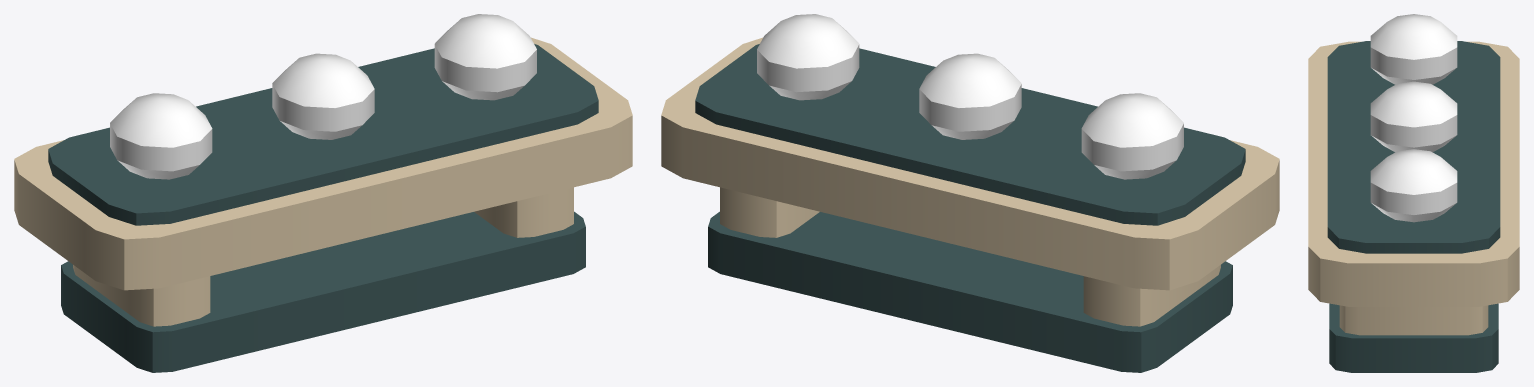
Rendered from goo-conveyor.glb.
3 views of the same model, side by side, from view 1: azimuth 30°, elevation 25°; view 2: azimuth 150°, elevation 25°; view 3: azimuth 270°, elevation 25° (orthographic). The views are drawn at different scales.
Parts seen in each view (by area): view 1: goo-conveyor; view 2: goo-conveyor; view 3: goo-conveyor.
Boxes of the visible parts, x1=… form: goo-conveyor: x1=14, y1=14, x2=632, y2=372; goo-conveyor: x1=661, y1=14, x2=1279, y2=372; goo-conveyor: x1=1308, y1=14, x2=1519, y2=372.
Size of the model in its own units: 3.28 by 1.34 by 1.32.
Materials: 2 (1 with a texture image).
